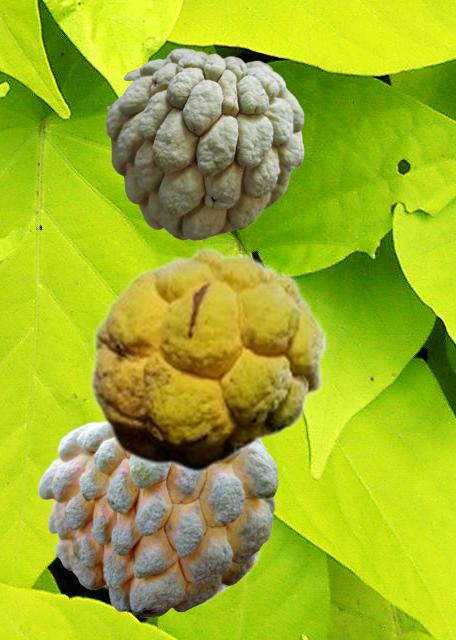atis: (88, 246, 327, 472), (38, 420, 277, 616), (105, 48, 303, 239), (102, 549, 264, 608)
